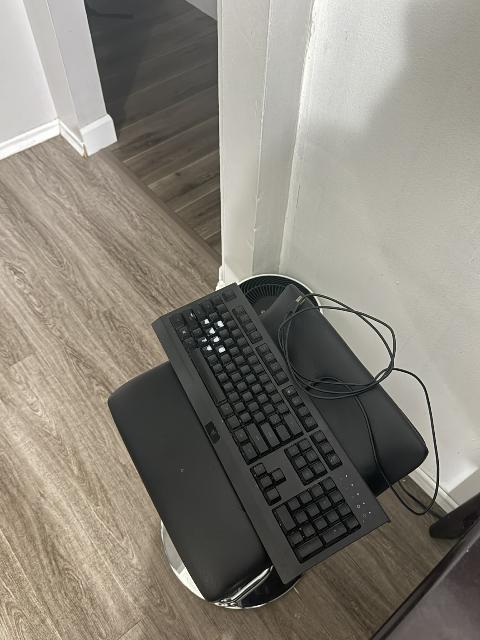ahkeyboard: (144, 274, 398, 583)
